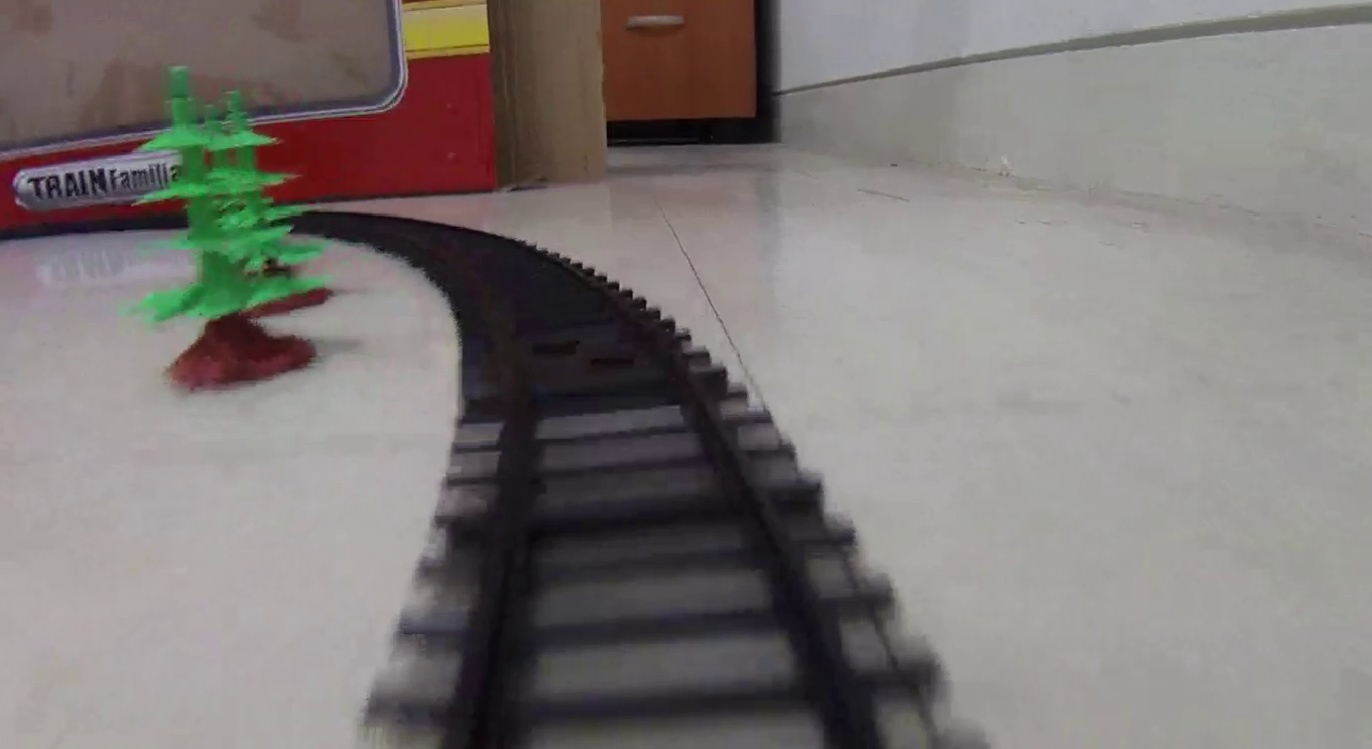tree: (137, 69, 311, 389)
